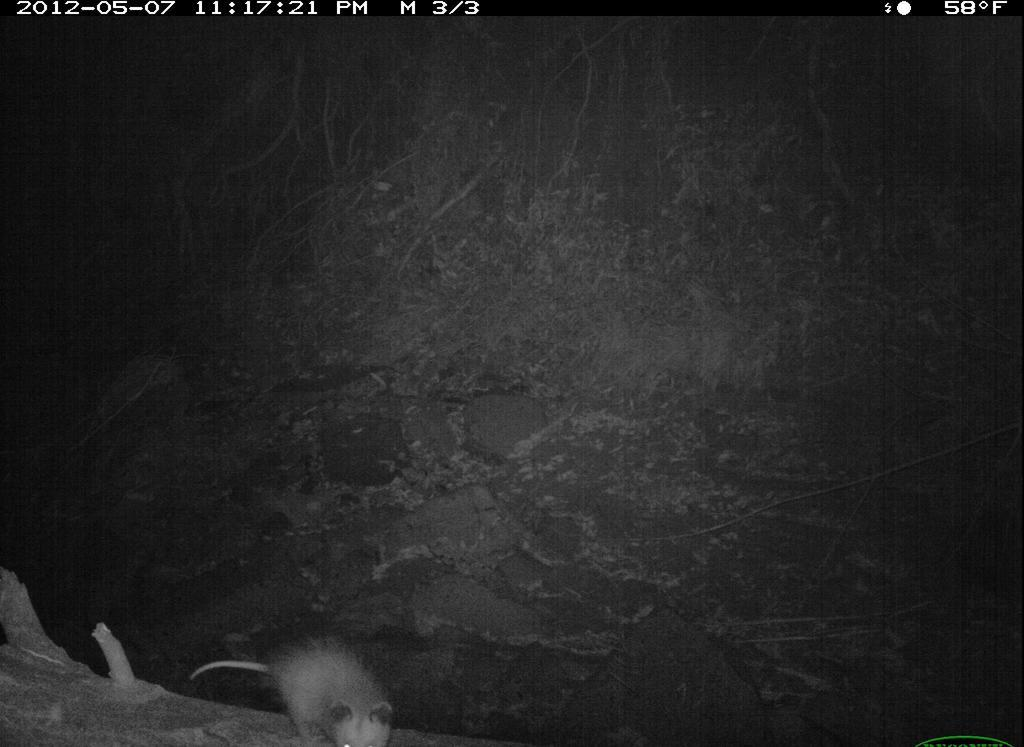opossum: (186, 637, 400, 745)
